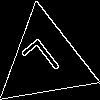L: (20, 36, 68, 90)
